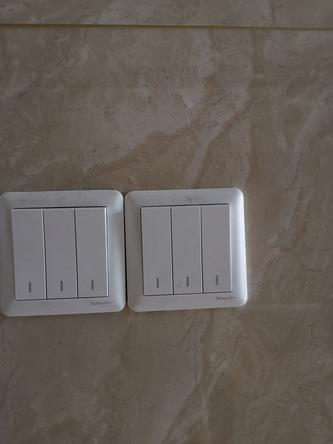switch: (5, 203, 50, 303), (38, 204, 82, 301), (138, 201, 180, 301), (71, 202, 113, 301), (166, 201, 208, 298), (197, 201, 240, 295)
